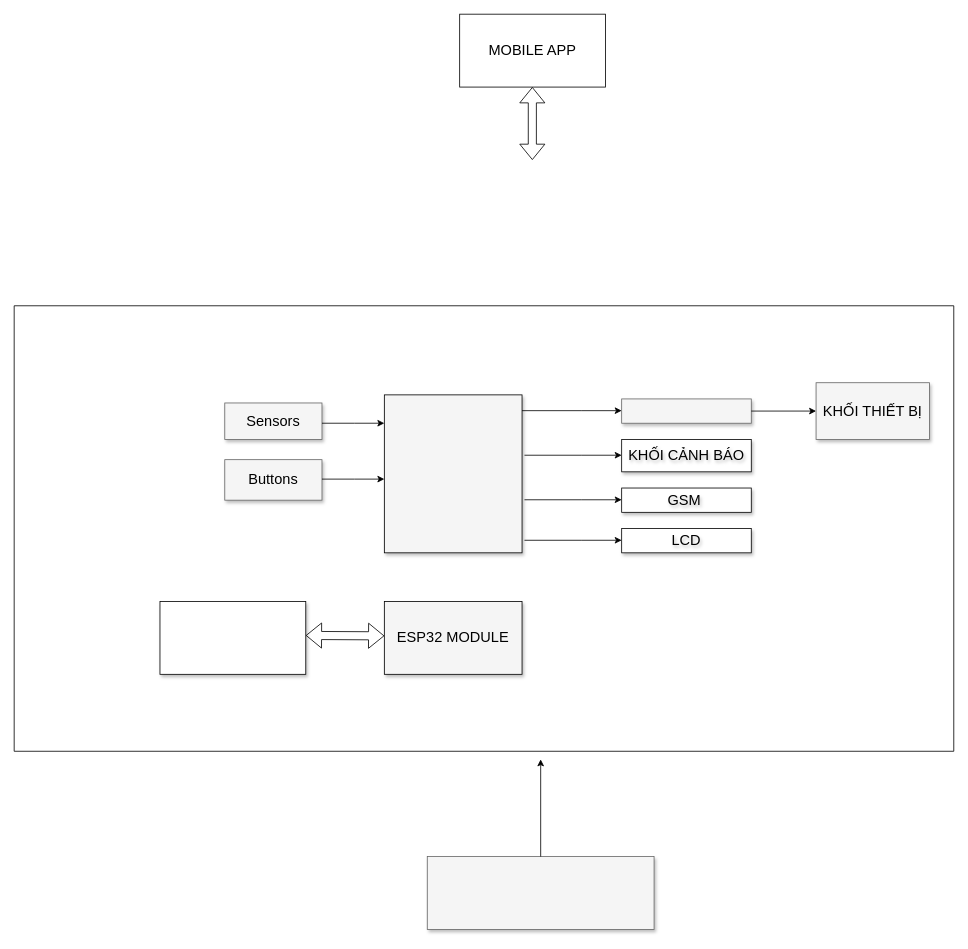
The diagram is 968 pixels wide and 949 high, and some of its shapes have lost their labels. The shapes that lost their labels are listed below. From the top down, each one's centre as x and y in pixels, then its label:
At [687,412]: "RELAY".
At [453,474]: "Arduino Mega 2560".
At [233,638]: "FIREBASE".
At [541,894]: "POWER SUPPLY".
